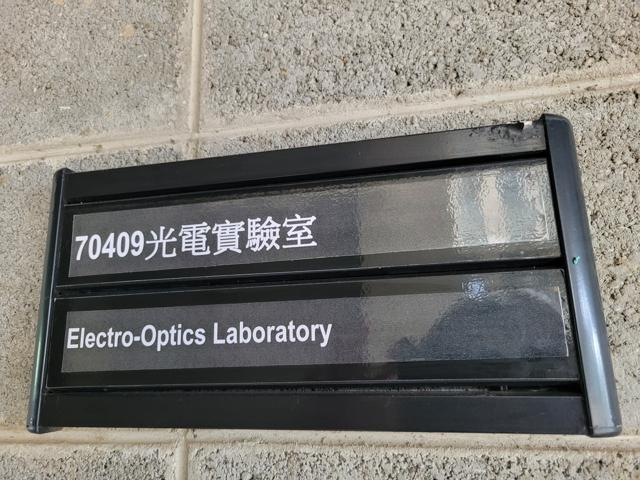doorplate: (22, 107, 626, 444)
